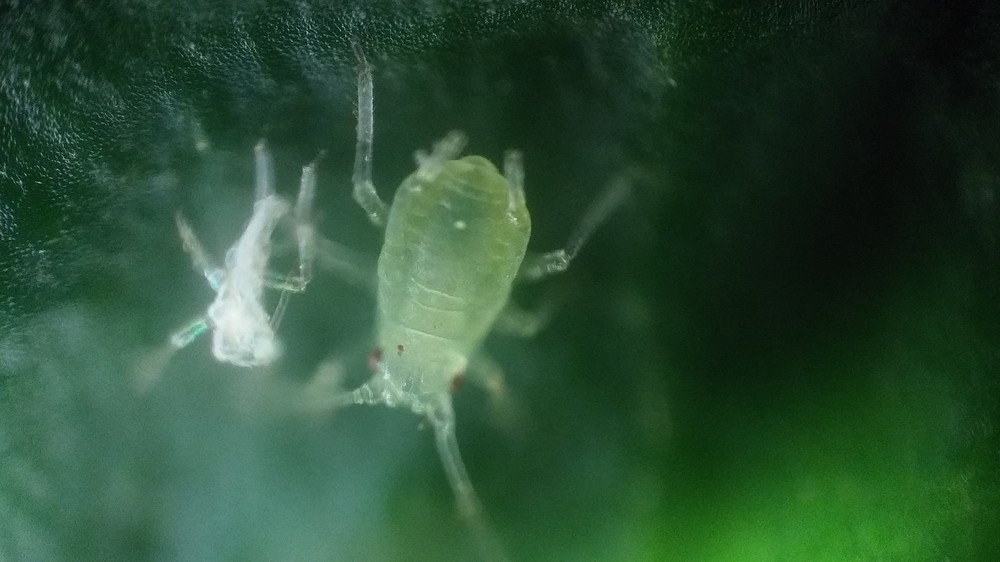Pulgon: (279, 58, 666, 539)
